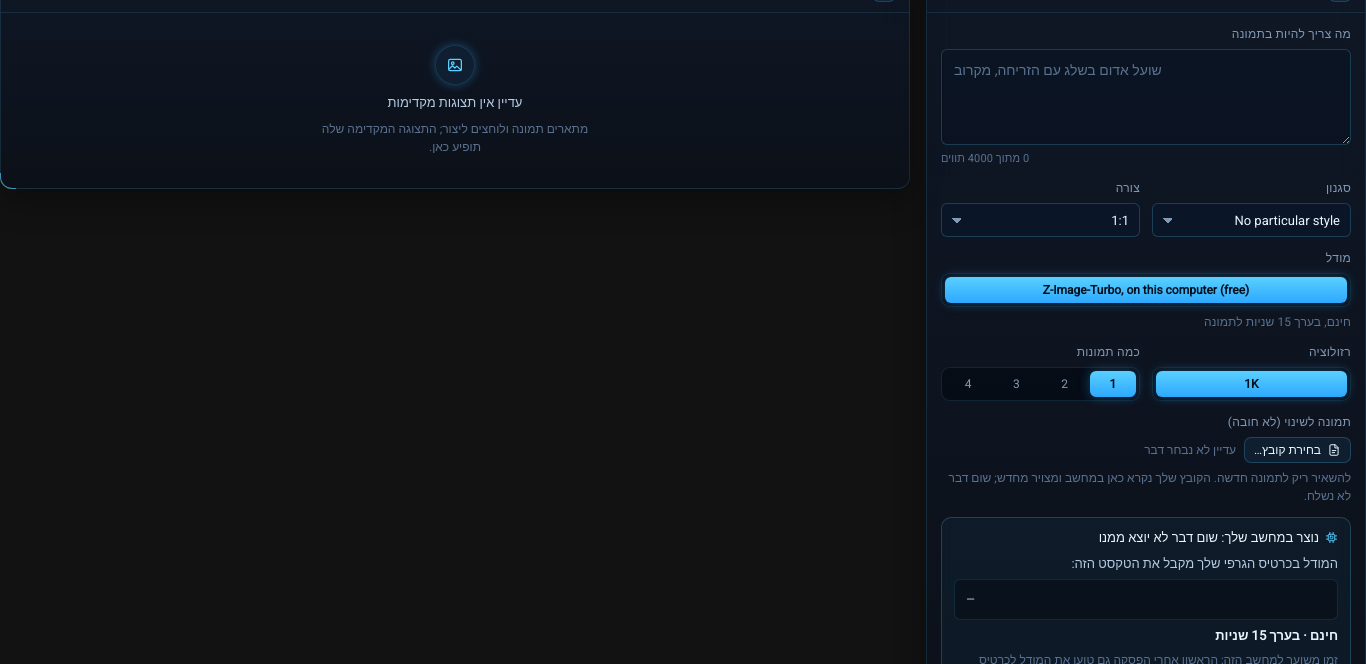
it: the image screen with the free models on this computer (the default) › in Hebrew it says the description is translated here first, and a loaded model is quicker
In the text box with test id "images-description": coordinates (1146, 96) [941,48,1351,144], type "שועל בשלג"
(page scrolled)
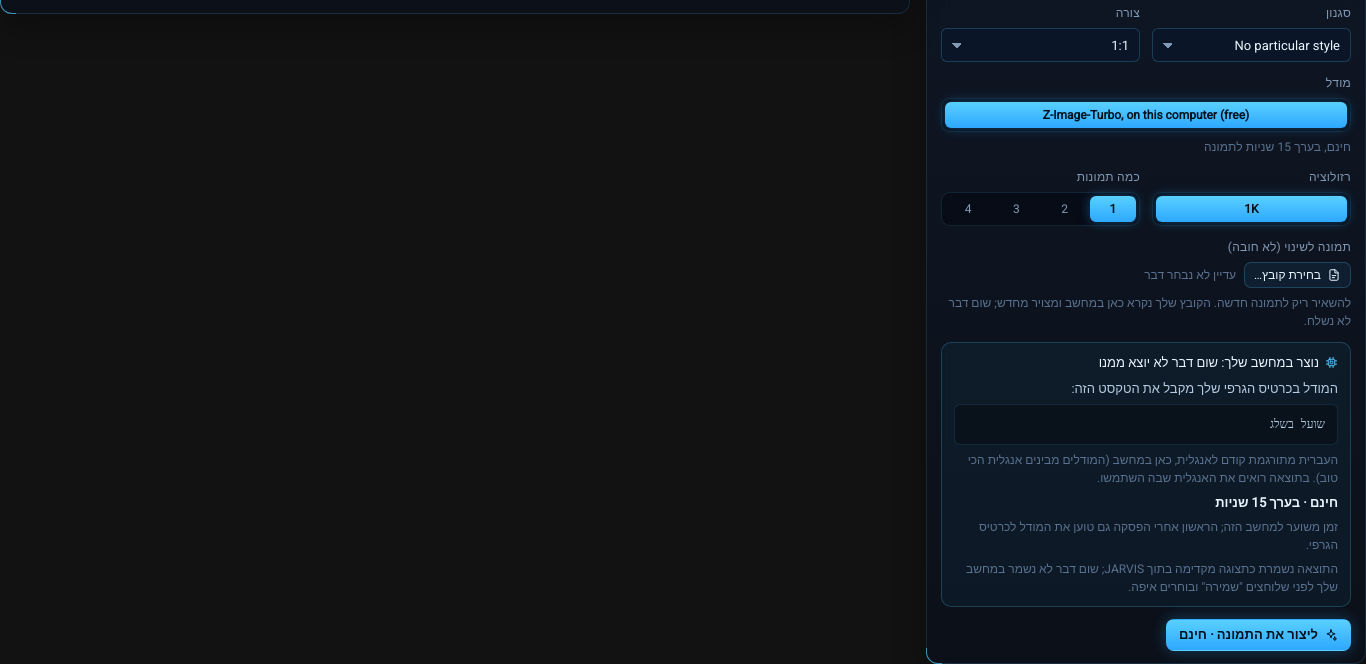
Expected: the text with test id "images-sends-price" reads "חינם · בערך 15 שניות", [1215,493,1338,512]
Expected: the text with test id "images-sends-translate" shows "מתורגמת קודם לאנגלית, כאן במחשב", [968,451,1338,487]
